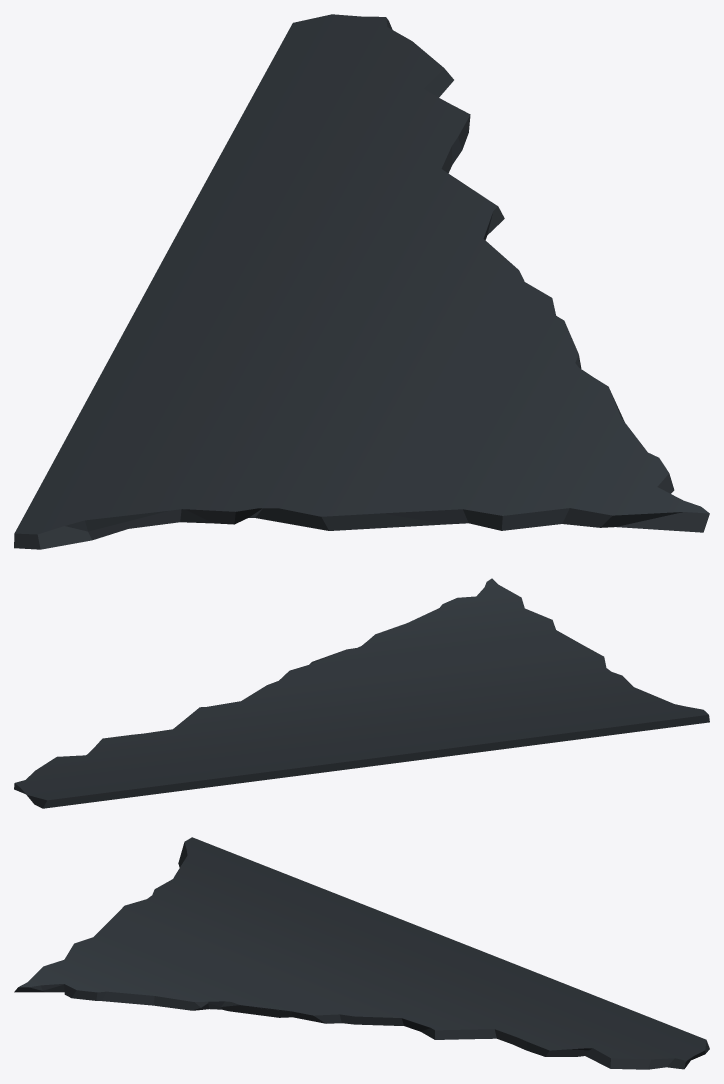
Rendered from Road Model Chunk3.fbx.
The picture shows the model from 3 angles, top to bottom: view 1: azimuth 30°, elevation 25°; view 2: azimuth 150°, elevation 25°; view 3: azimuth 270°, elevation 25°; orthographic projection. The views are drawn at different scales.
Parts seen in each view (by area): view 1: Road Chunk 3; view 2: Road Chunk 3; view 3: Road Chunk 3.
Part boxes in pixels (x1,y1,x2,y2): Road Chunk 3: [14, 14, 709, 549]; Road Chunk 3: [14, 578, 709, 808]; Road Chunk 3: [14, 837, 709, 1069].
Bounding box in the file's own units: 6109 × 100 × 7987.
